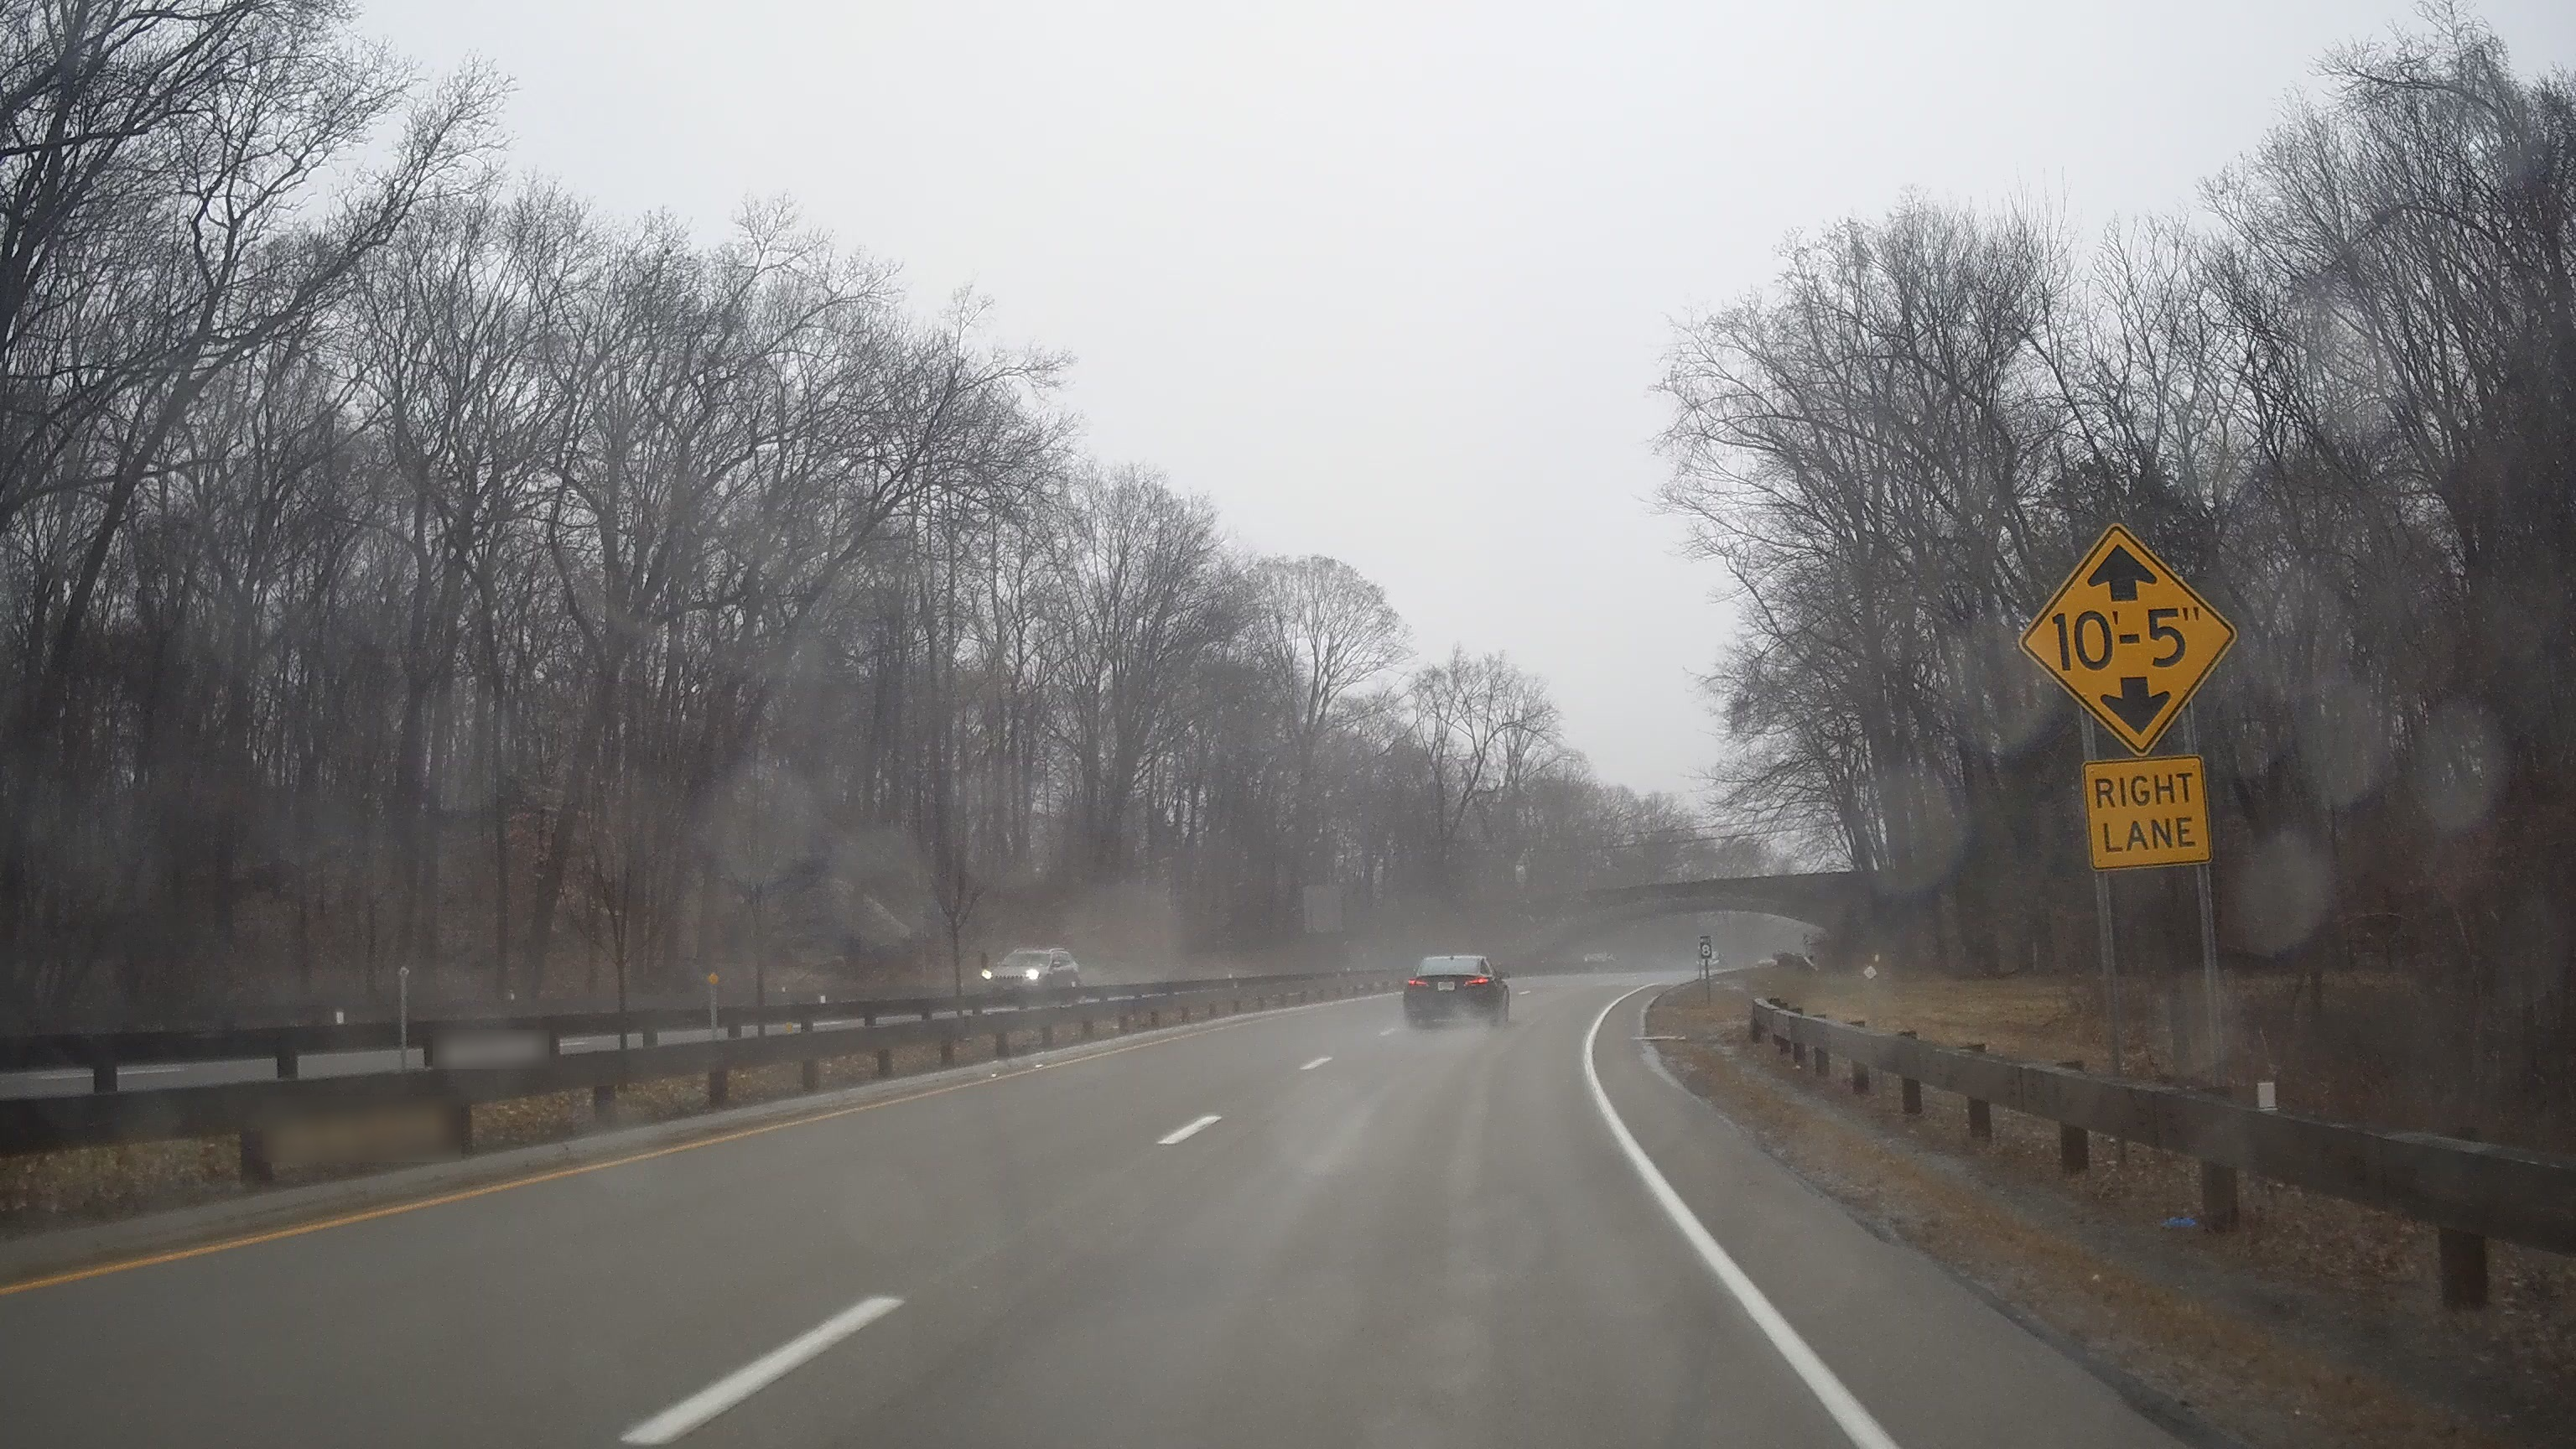low-clearance-sign: (2019, 522, 2238, 757)
